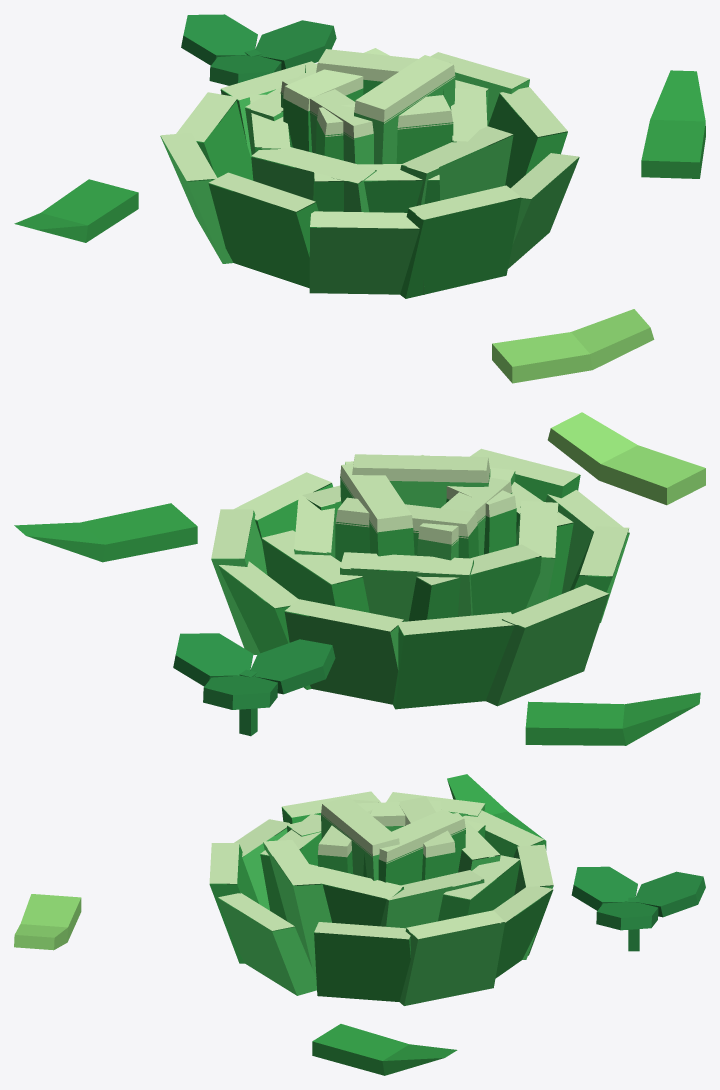
File: tuft_golf_cut.glb
3 views of the same model, one above another, from view 1: azimuth 30°, elevation 25°; view 2: azimuth 150°, elevation 25°; view 3: azimuth 270°, elevation 25° (orthographic). The views are drawn at different scales.
Parts seen in each view (by area): view 1: Grass__32AA48, SmoothPlastic__D2F6BA, Grass__46C05A, SmoothPlastic__289646, Grass__96E878; view 2: Grass__32AA48, SmoothPlastic__D2F6BA, Grass__46C05A, SmoothPlastic__289646, Grass__96E878; view 3: SmoothPlastic__D2F6BA, Grass__32AA48, Grass__46C05A, SmoothPlastic__289646, Grass__96E878.
Boxes of the visible parts, x1=… form: Grass__32AA48: x1=14, y1=65, x2=705, y2=298; SmoothPlastic__D2F6BA: x1=160, y1=48, x2=578, y2=228; Grass__46C05A: x1=160, y1=72, x2=579, y2=294; SmoothPlastic__289646: x1=181, y1=14, x2=336, y2=85; Grass__96E878: x1=492, y1=309, x2=654, y2=383; Grass__32AA48: x1=14, y1=474, x2=700, y2=745; SmoothPlastic__D2F6BA: x1=211, y1=448, x2=629, y2=635; Grass__46C05A: x1=211, y1=463, x2=629, y2=706; SmoothPlastic__289646: x1=173, y1=633, x2=335, y2=736; Grass__96E878: x1=547, y1=412, x2=705, y2=505; SmoothPlastic__D2F6BA: x1=209, y1=791, x2=553, y2=939; Grass__32AA48: x1=209, y1=774, x2=553, y2=1075; Grass__46C05A: x1=218, y1=804, x2=553, y2=1005; SmoothPlastic__289646: x1=571, y1=866, x2=705, y2=951; Grass__96E878: x1=14, y1=894, x2=81, y2=950.
Bounding box in the file's own units: 4.22 × 0.9048 × 4.36.
